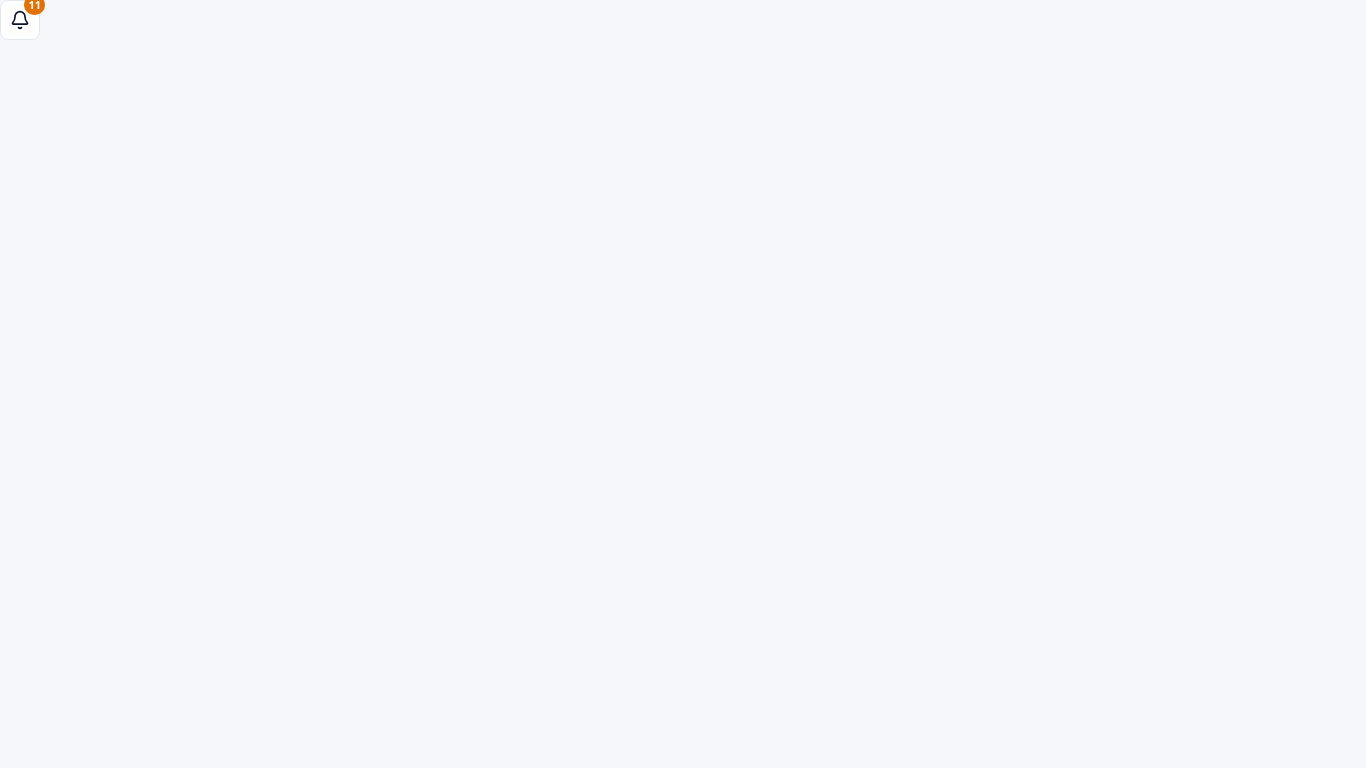
ControlBell › lists a handful and says how many more there are
Click the button named "Notifications" at coordinates (20, 20), box [0,0,40,40]
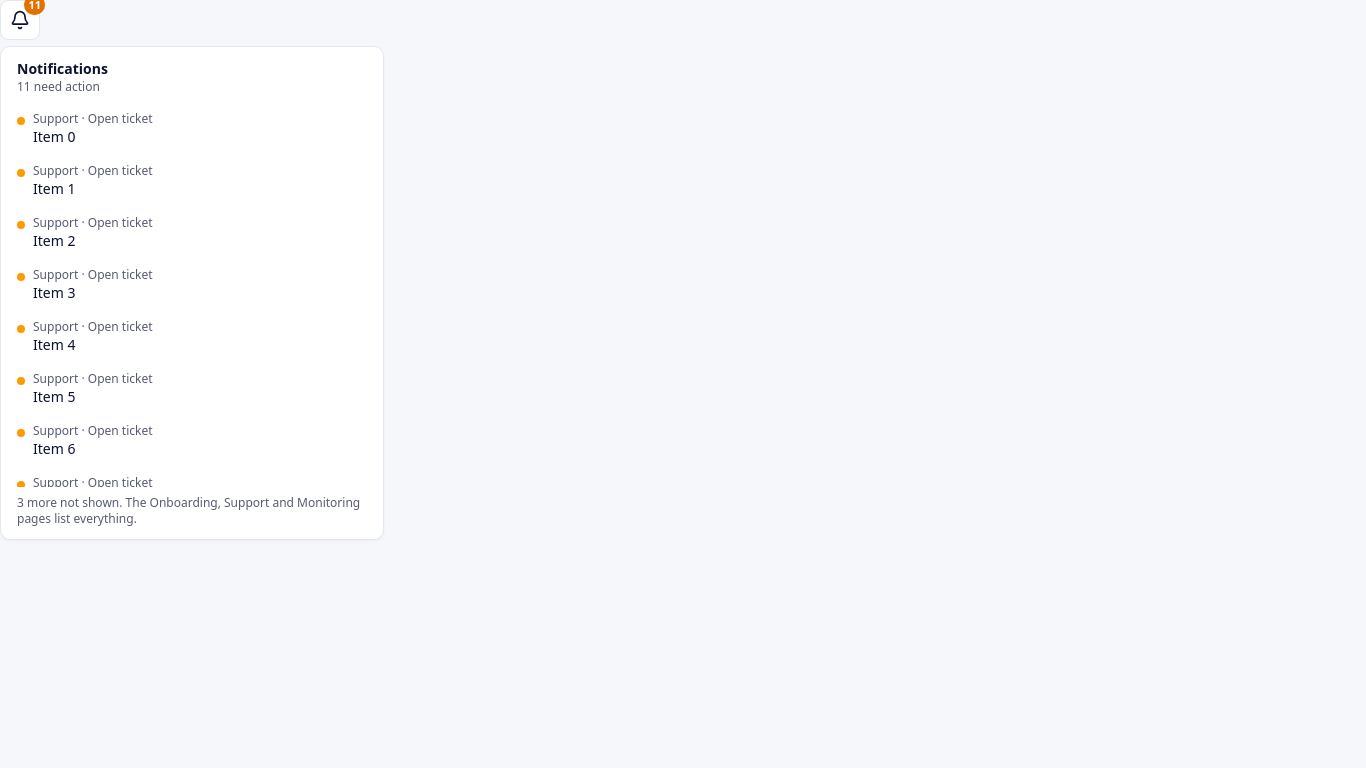
Now the number of links is 8
Now the text "3 more not shown" is shown, box [5,487,379,535]
